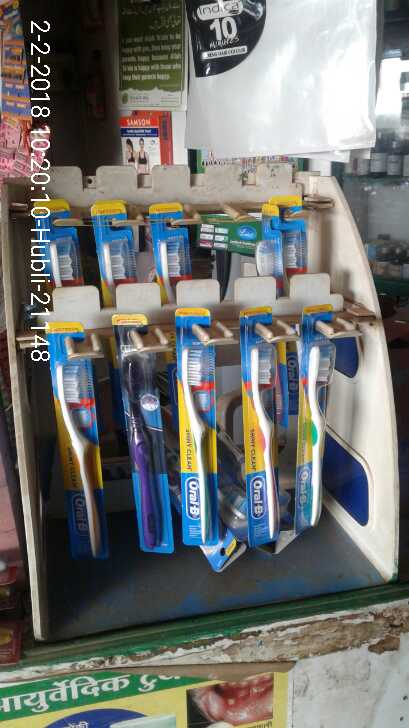oralb: (45, 321, 115, 565), (114, 314, 176, 561), (235, 305, 286, 553), (175, 300, 223, 549), (296, 296, 326, 533)
